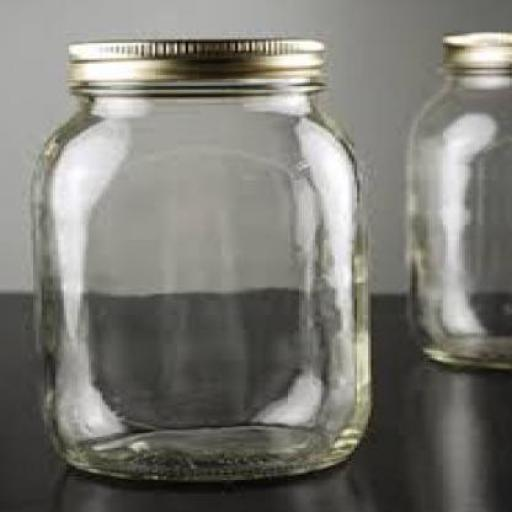glass: (25, 82, 368, 482), (401, 63, 510, 370)
metal: (64, 36, 324, 85), (437, 28, 509, 68)
